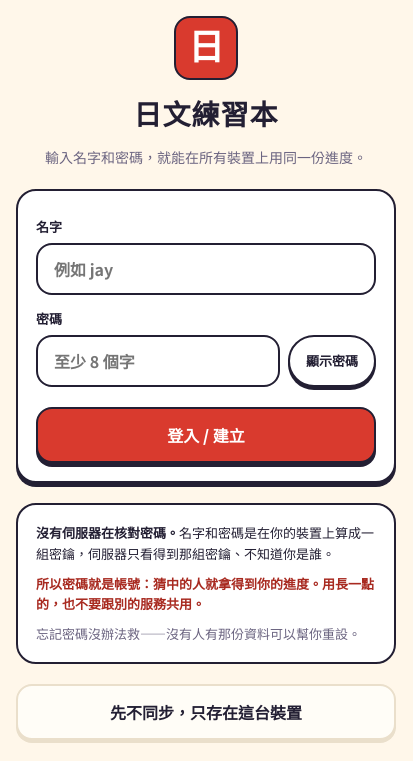
Test case: 登入頁 › 名字 a 密碼 hunter2hunter2 會擋下來
Type "a" into the field labelled "名字" at point(206, 269), box [36, 243, 376, 295]
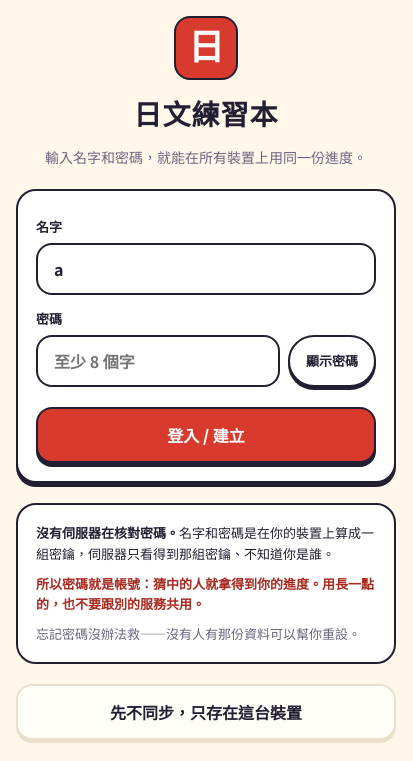
Type "hunter2hunter2" into the password field labelled "密碼" at point(158, 361), box [36, 335, 280, 387]
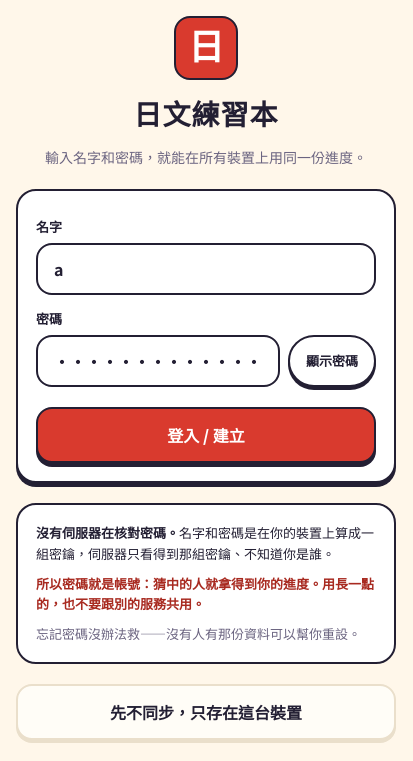
Click the button "登入 / 建立" at point(206, 435), box [36, 407, 376, 463]
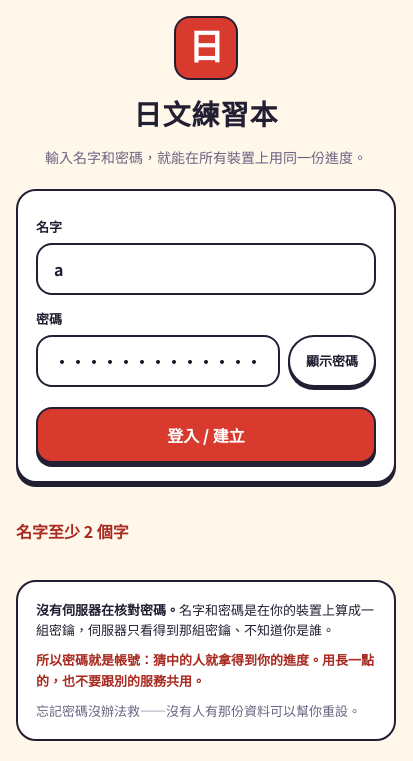
Expected: the text "名字至少 2 個字" is shown, [16, 519, 129, 543]
